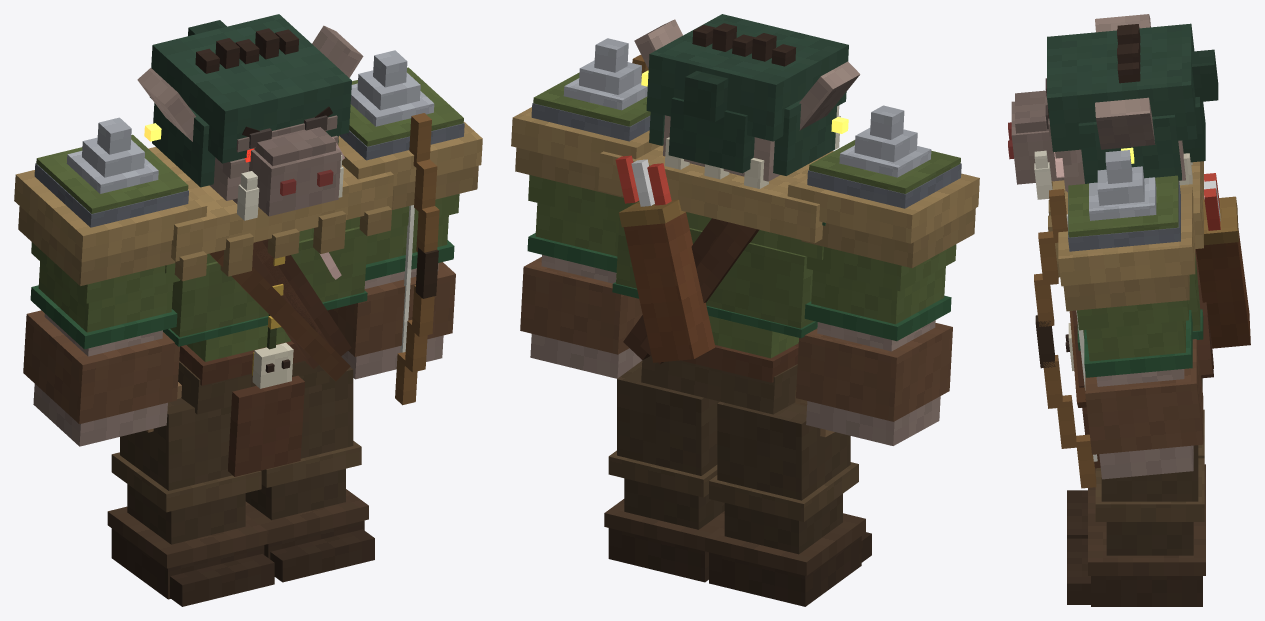
File: orc_chasseur.glb
3 views of the same model, side by side, from view 1: azimuth 30°, elevation 25°; view 2: azimuth 150°, elevation 25°; view 3: azimuth 270°, elevation 25° (orthographic).
Parts seen in each view (by area): view 1: ArmR, Torso, Head, LegR, ArmL, LegL, HandL; view 2: ArmR, Torso, ArmL, Head, LegR, LegL; view 3: ArmL, Head, LegL, Torso, HandL, LegR.
Part boxes in pixels (left/top/right/bottom): ArmR: left=14, top=117, right=207, bottom=446; Torso: left=146, top=147, right=393, bottom=476; Head: left=137, top=14, right=363, bottom=220; LegR: left=107, top=398, right=274, bottom=606; ArmL: left=327, top=50, right=482, bottom=379; LegL: left=245, top=367, right=374, bottom=582; HandL: left=395, top=113, right=439, bottom=405; ArmR: left=787, top=105, right=979, bottom=445; Torso: left=598, top=137, right=834, bottom=437; ArmL: left=511, top=38, right=660, bottom=378; Head: left=634, top=14, right=860, bottom=181; LegR: left=705, top=401, right=871, bottom=606; LegL: left=604, top=361, right=724, bottom=582; ArmL: left=1058, top=150, right=1203, bottom=479; Head: left=1008, top=14, right=1218, bottom=199; LegL: left=1067, top=445, right=1205, bottom=606; Torso: left=1048, top=153, right=1250, bottom=468; HandL: left=1034, top=189, right=1097, bottom=488; LegR: left=1067, top=409, right=1205, bottom=538.
Size of the model in its own units: 1.44 by 1.8 by 0.7627.
Materials: 48 (48 with a texture image).
